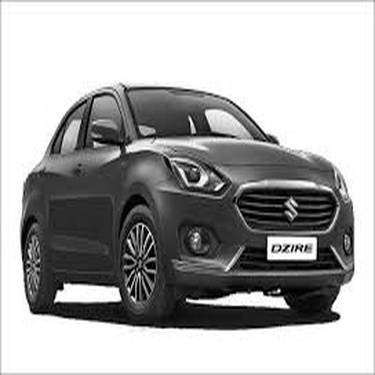car: (6, 83, 359, 327)
